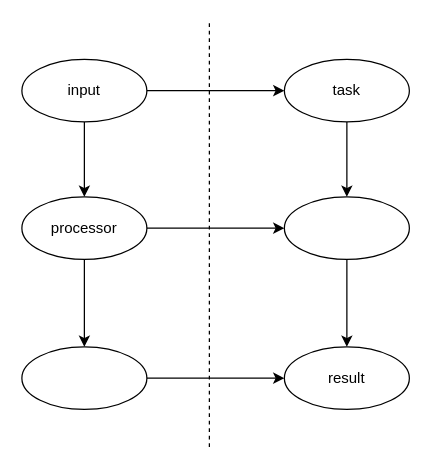
The diagram is 431 pixels wide and 470 high, and some of its shapes have lost their labels. Here are the shapes that lost their labels. From the top down, the centre of each, then its label:
At [346,227]: "executor".
At [84,377]: "output".
